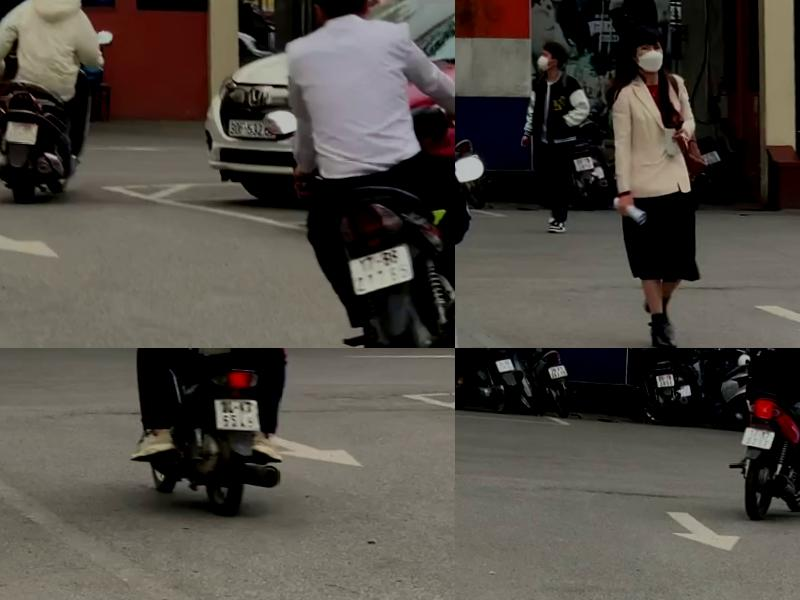license_plate: (345, 234, 420, 292), (214, 391, 262, 429), (742, 420, 778, 445), (7, 119, 39, 143), (574, 148, 595, 170), (548, 361, 570, 377), (655, 368, 677, 384), (497, 355, 516, 371)
motorcyclist: (277, 0, 455, 348), (113, 348, 306, 515), (0, 0, 111, 205), (741, 348, 800, 517)
